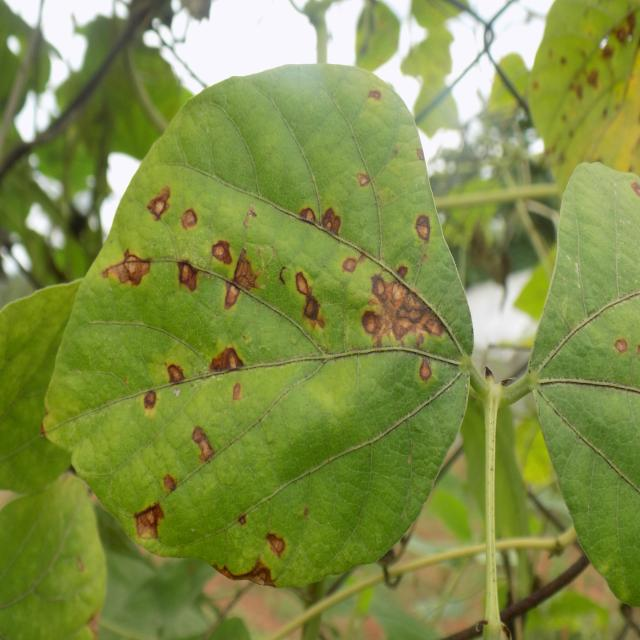Dolicos bean_cercospora leaf spot: (45, 62, 477, 585)
